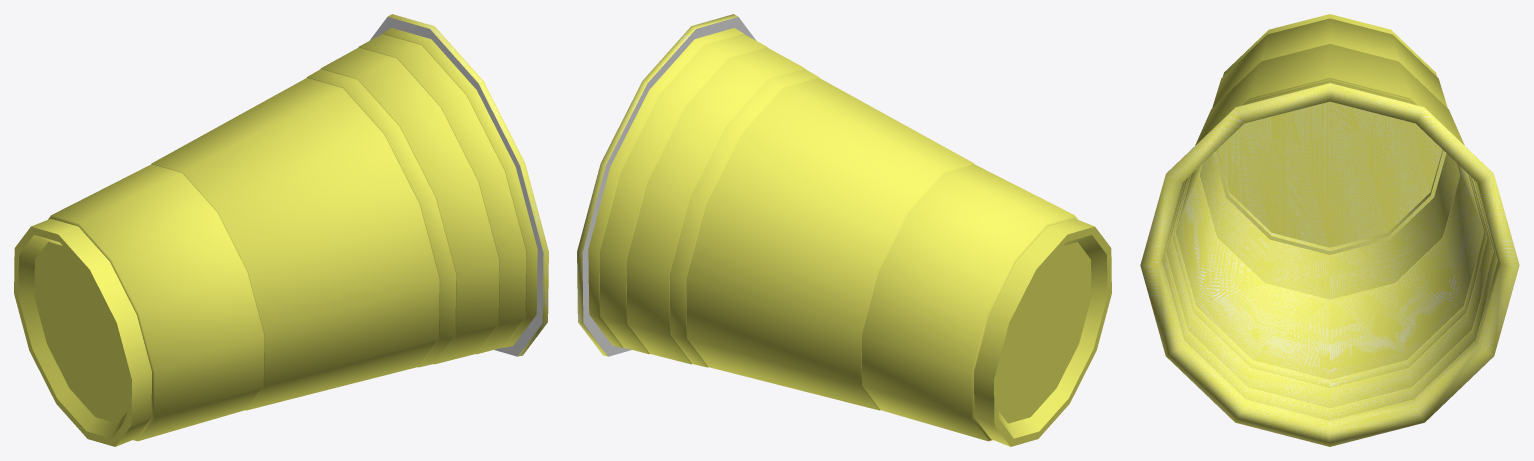
The model's file is trash-plastic-cup.fbx.
The picture shows the model from 3 angles, left to right: view 1: azimuth 30°, elevation 25°; view 2: azimuth 150°, elevation 25°; view 3: azimuth 270°, elevation 25°; orthographic projection. The views are drawn at different scales.
Parts seen in each view (by area): view 1: polySurface1; view 2: polySurface1; view 3: polySurface1.
Boxes of the visible parts, x1,y1,x2,y2 form: polySurface1: (14,14,548,446); polySurface1: (577,14,1111,446); polySurface1: (1140,14,1519,446).
Bounding box in the file's own units: 13.1 × 9.74 × 9.84.
